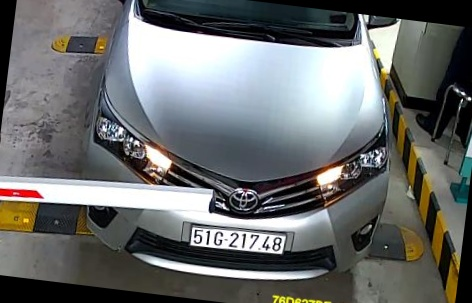plate: (174, 210, 300, 268)
